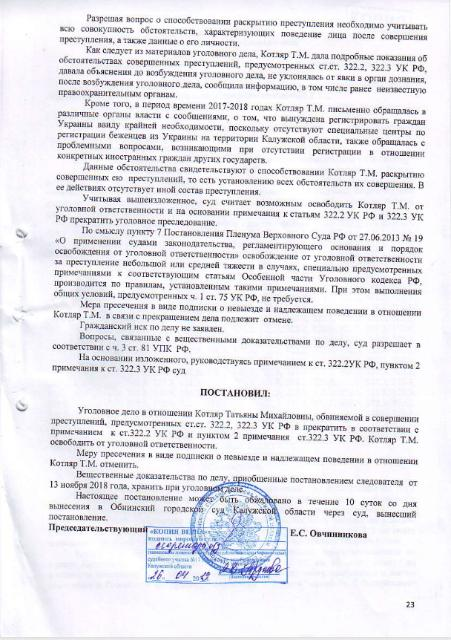stamp: (192, 480, 280, 574)
